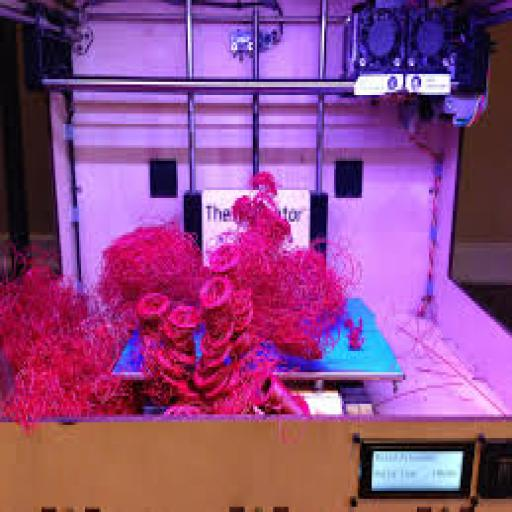spaghetti: (6, 176, 349, 420)
